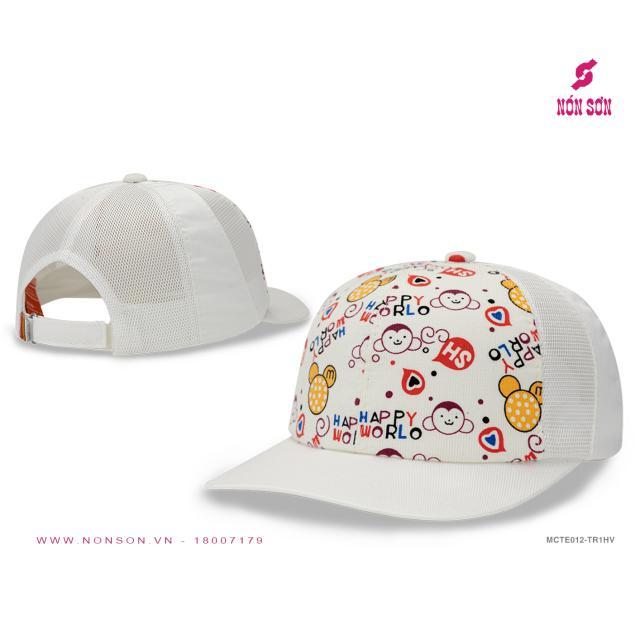no_helmet: (198, 245, 627, 528), (9, 166, 313, 361)
